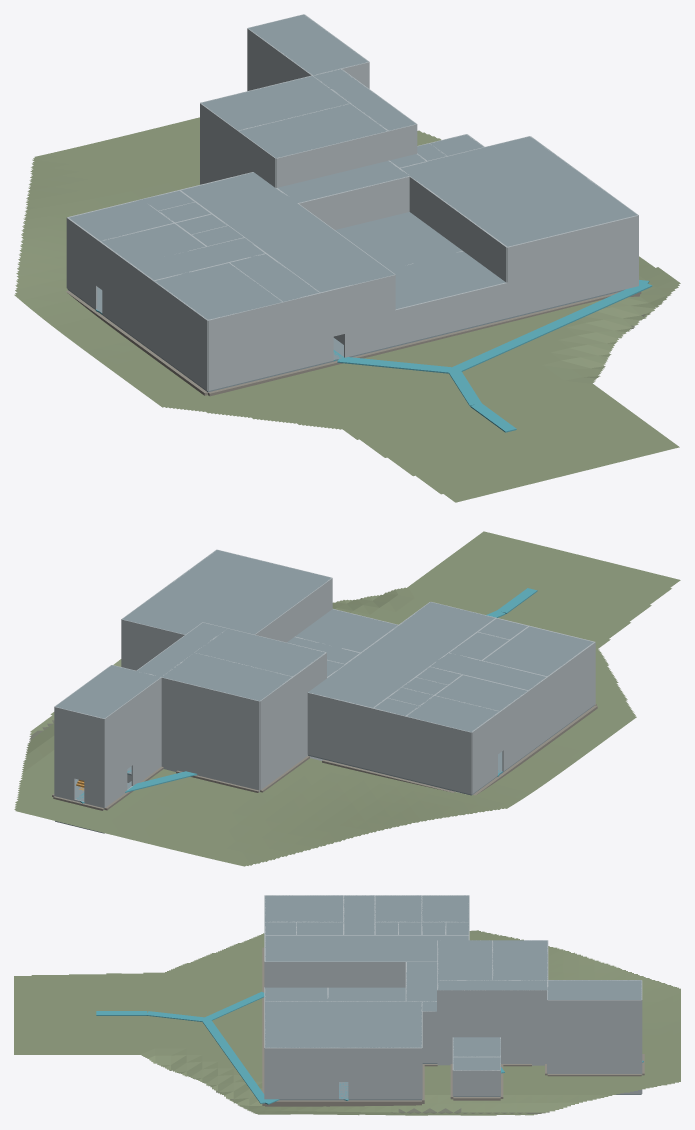
File: closed-floors.glb
3 renders of one model, top to bottom at view 1: azimuth 30°, elevation 25°; view 2: azimuth 150°, elevation 25°; view 3: azimuth 270°, elevation 25°, orthographic. The views are drawn at different scales.
Visible parts, largest first — view 1: Saved editor macroterrain MANSION, Ceiling cap ballroom, Ceiling cap gallery, Wall ballroom S, Ceiling cap archive, Ceiling cap attic-store, Wall morning S, Wall drawing S, Ceiling cap dining, Ceiling cap suite-bed, Ceiling cap morning, Ceiling cap attic-stair (+30 smaller); view 2: Saved editor macroterrain MANSION, Ceiling cap ballroom, Ceiling cap gallery, Ceiling cap archive, Ceiling cap attic-store, Wall library N, Ceiling cap suite-bed, Ceiling cap attic-stair, Wall archive N, Ceiling cap morning, Wall guest-a N, Wall gallery N (+37 smaller); view 3: Saved editor macroterrain MANSION, Ceiling cap ballroom, Ceiling cap gallery, Wall ballroom E, Wall ballroom E.001, Wall gallery E.001, Wall upper-service E, Wall upper-service-stair E, Wall service-stair E, Wall attic-passage E, Ceiling cap archive, Ceiling cap attic-store (+20 smaller).
Part boxes in pixels (<box>): Saved editor macroterrain MANSION: <box>14,117,680,502</box>; Ceiling cap ballroom: <box>401,136,637,246</box>; Ceiling cap gallery: <box>181,172,394,292</box>; Wall ballroom S: <box>507,215,638,317</box>; Ceiling cap archive: <box>201,76,349,130</box>; Ceiling cap attic-store: <box>239,104,387,158</box>; Wall morning S: <box>395,282,507,345</box>; Wall drawing S: <box>208,328,320,390</box>; Ceiling cap dining: <box>335,212,462,269</box>; Ceiling cap suite-bed: <box>154,263,281,319</box>; Ceiling cap morning: <box>389,251,505,309</box>; Ceiling cap attic-stair: <box>248,14,368,75</box>; Saved editor macroterrain MANSION: <box>14,531,680,866</box>; Ceiling cap ballroom: <box>122,550,330,634</box>; Ceiling cap gallery: <box>308,602,494,707</box>; Ceiling cap archive: <box>162,653,291,700</box>; Ceiling cap attic-store: <box>195,628,324,676</box>; Wall library N: <box>372,739,471,794</box>; Ceiling cap suite-bed: <box>483,626,593,676</box>; Ceiling cap attic-stair: <box>55,665,160,718</box>; Wall archive N: <box>161,677,259,727</box>; Ceiling cap morning: <box>295,609,397,652</box>; Wall guest-a N: <box>405,716,471,763</box>; Wall gallery N: <box>307,692,372,739</box>; Saved editor macroterrain MANSION: <box>14,930,680,1115</box>; Ceiling cap ballroom: <box>265,1001,421,1047</box>; Ceiling cap gallery: <box>265,935,468,961</box>; Wall ballroom E: <box>348,1047,421,1099</box>; Wall ballroom E.001: <box>265,1047,338,1099</box>; Wall gallery E.001: <box>265,961,416,987</box>; Wall upper-service E: <box>422,1011,546,1037</box>; Wall upper-service-stair E: <box>547,1021,641,1047</box>; Wall service-stair E: <box>547,1047,641,1072</box>; Wall attic-passage E: <box>437,990,546,1011</box>; Ceiling cap archive: <box>492,940,547,980</box>; Ceiling cap attic-store: <box>437,940,492,980</box>.
Size of the model in its own units: 55 by 13.36 by 85.
